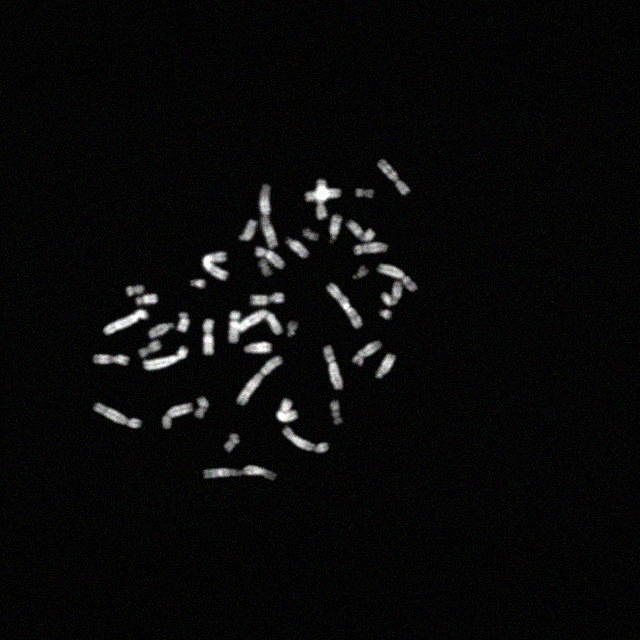chromosome: (237, 357, 283, 405), (326, 284, 362, 328), (258, 185, 278, 248), (94, 402, 142, 428), (378, 159, 410, 195), (204, 464, 276, 480), (104, 309, 148, 335), (377, 264, 417, 292), (238, 310, 282, 334), (144, 346, 188, 370), (323, 345, 343, 389), (282, 426, 314, 452), (352, 340, 382, 366), (162, 402, 192, 428), (202, 251, 228, 281), (256, 247, 284, 270), (347, 221, 375, 241), (316, 178, 328, 220), (276, 400, 298, 422), (382, 282, 402, 306), (376, 354, 396, 378), (286, 238, 310, 258), (355, 242, 389, 255), (202, 319, 214, 355), (306, 189, 340, 201), (251, 293, 285, 305), (94, 353, 128, 365), (139, 340, 161, 358), (228, 311, 240, 343), (148, 324, 174, 338), (238, 220, 256, 240), (329, 214, 341, 240), (331, 401, 344, 425), (224, 434, 240, 452), (194, 398, 208, 418), (244, 342, 272, 352), (258, 259, 272, 277), (177, 312, 189, 332), (303, 228, 319, 242), (126, 284, 144, 296), (136, 294, 156, 304), (352, 266, 368, 278), (313, 443, 329, 453), (288, 321, 298, 337), (356, 190, 374, 198), (379, 310, 393, 320), (190, 280, 206, 288)
